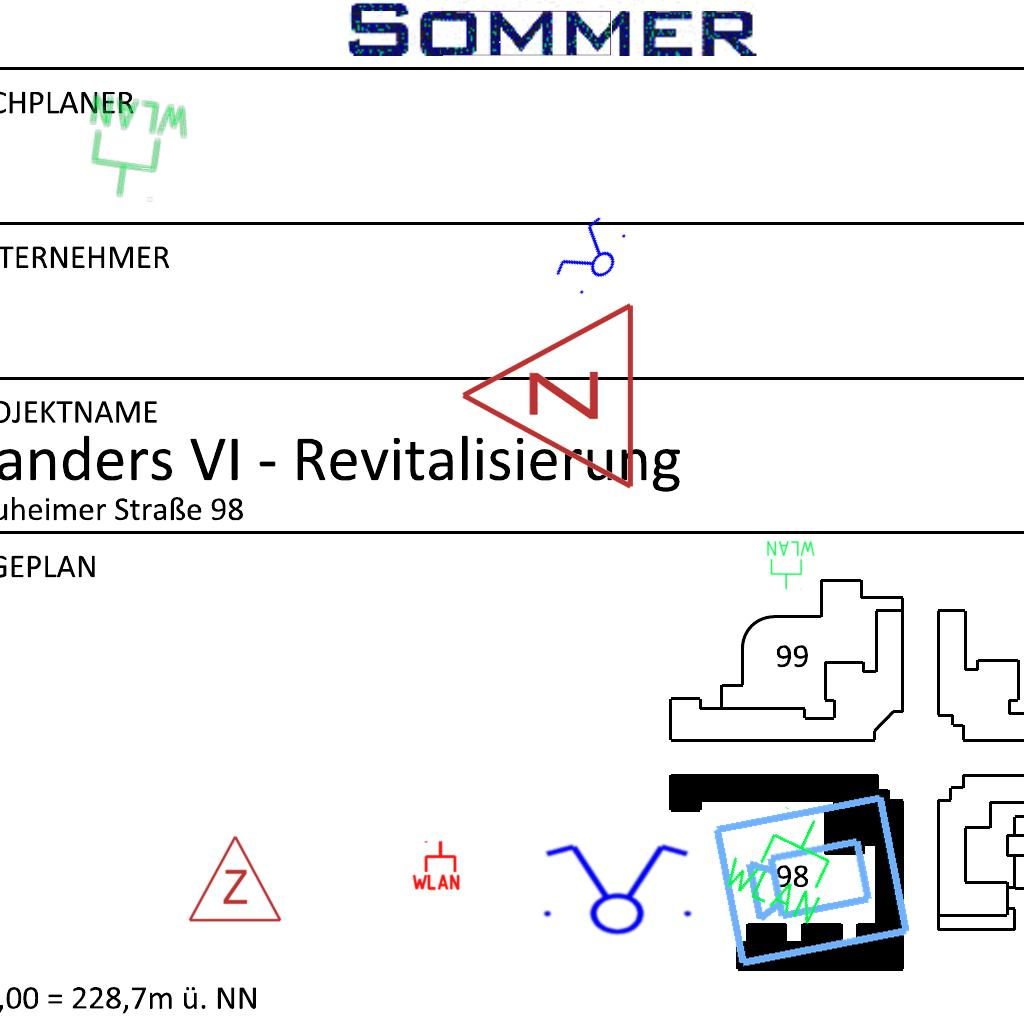KFO_Kamera_mit_Festobjektiv: (707, 786, 917, 972)
Serienschalter: (532, 840, 700, 936), (547, 209, 637, 305)
WLAN: (715, 791, 855, 930), (76, 89, 196, 208), (409, 838, 463, 892), (765, 539, 817, 591)
Zimmersignalleuchte: (448, 300, 648, 496), (185, 829, 283, 929)
